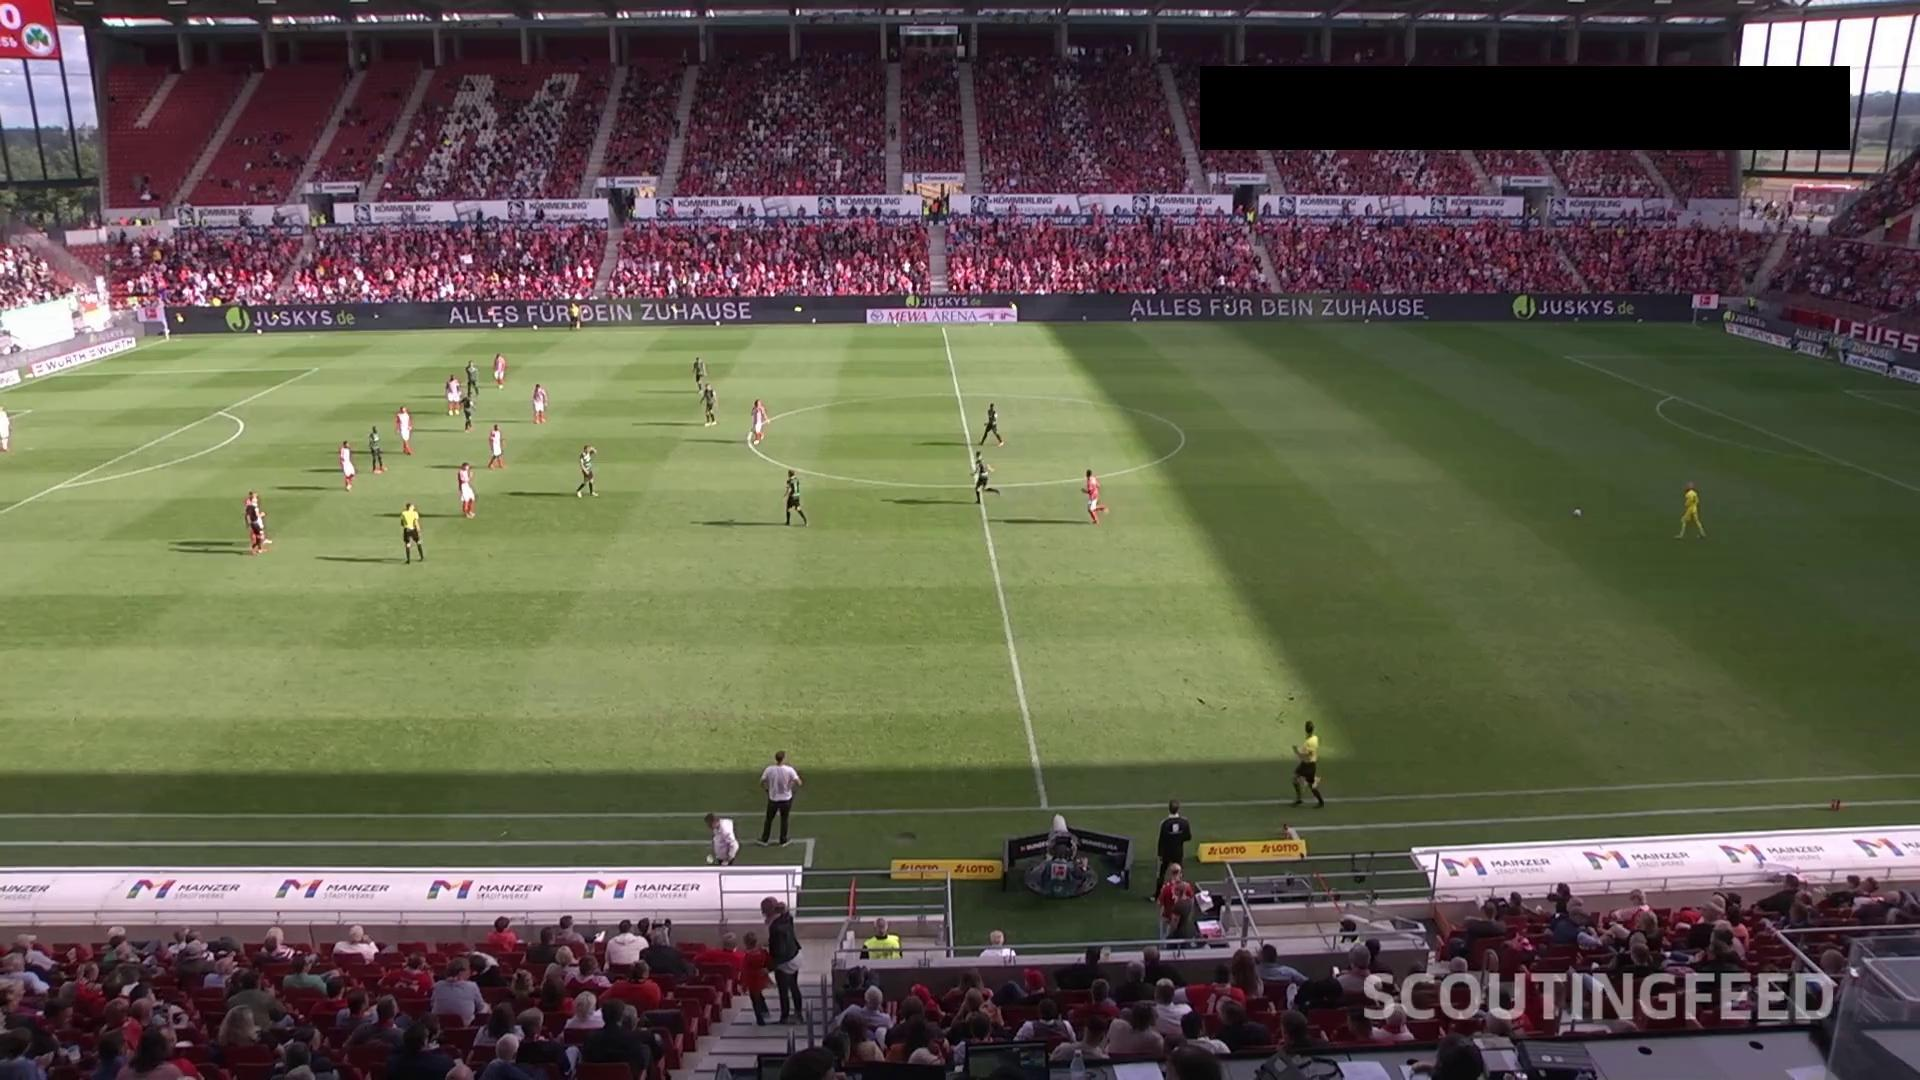Location-of-ball: (1556, 498, 1590, 529)
